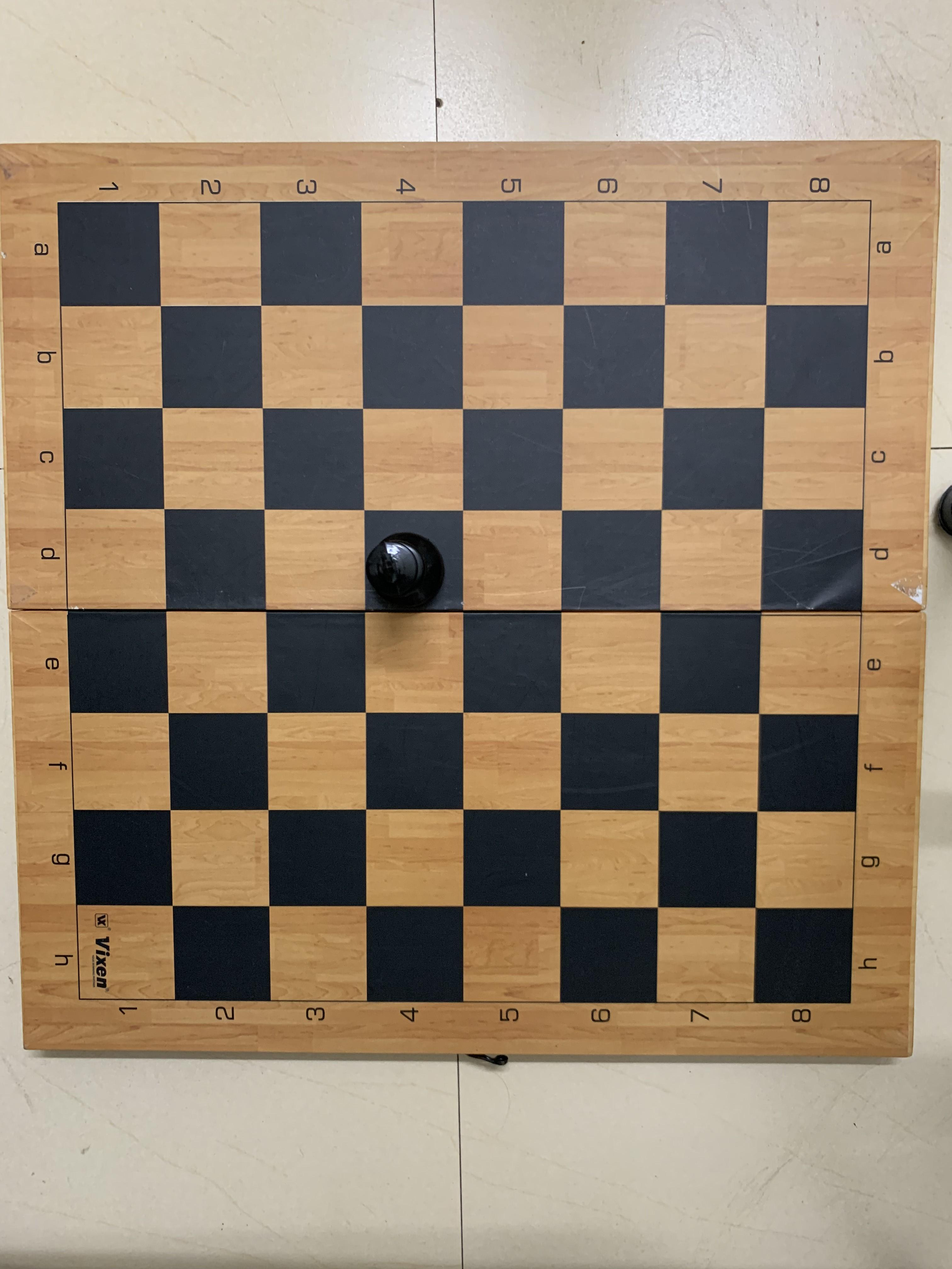black_king: (368, 506, 460, 612)
